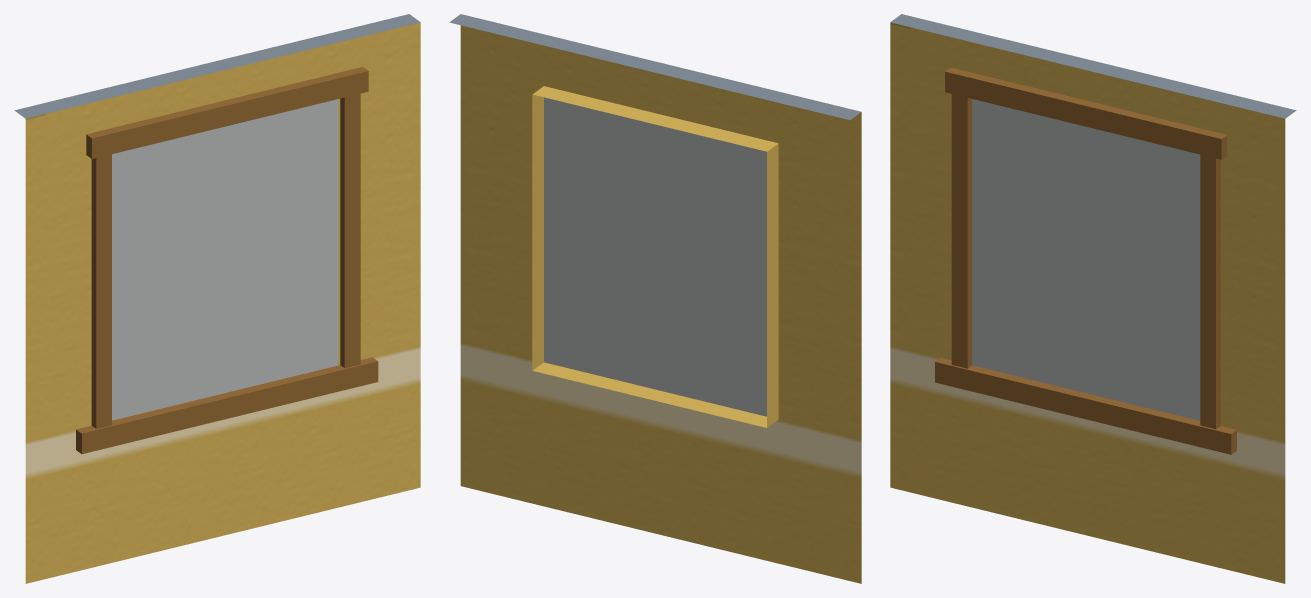
Rendered from RoomOutsideWindowWall_UtilityRoom.fbx.
The picture shows the model from 3 angles, left to right: view 1: azimuth 30°, elevation 25°; view 2: azimuth 150°, elevation 25°; view 3: azimuth 330°, elevation 25°; orthographic projection.
Parts seen in each view (by area): view 1: Wall_Window.079; view 2: Wall_Window.079; view 3: Wall_Window.079.
Boxes of the visible parts, box(x1,y1,x2,y2) form: Wall_Window.079: box(14, 14, 420, 583); Wall_Window.079: box(449, 14, 861, 583); Wall_Window.079: box(890, 14, 1296, 583).
Bounding box in the file's own units: 2 × 2.25 × 0.1502.
